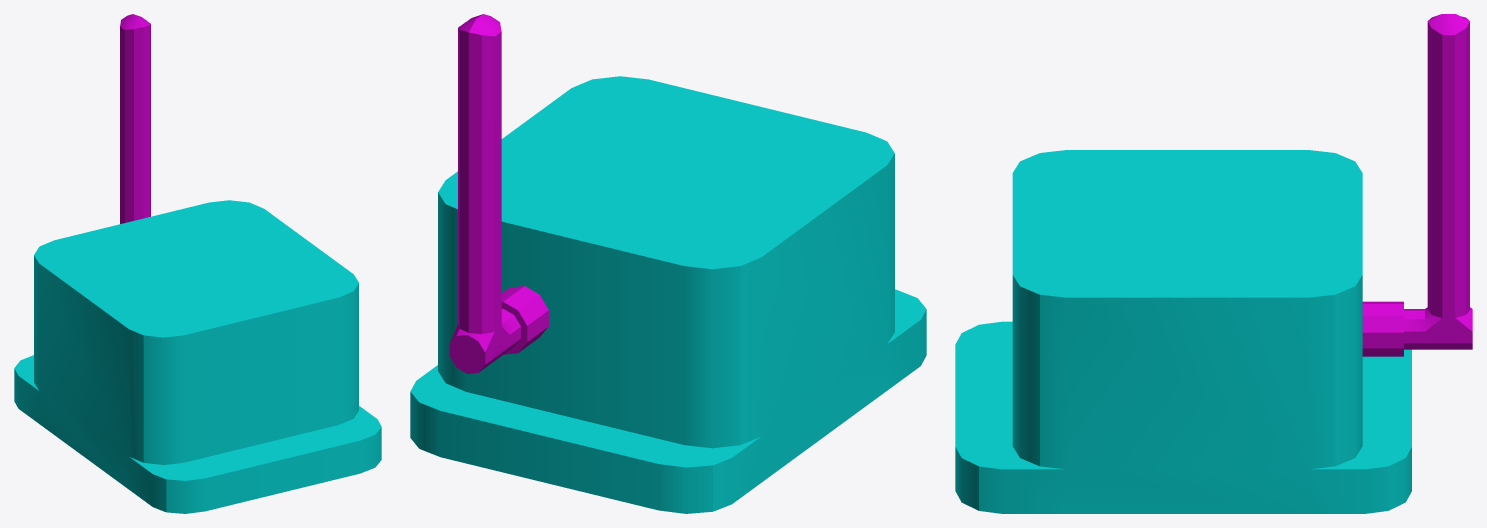
The model's file is Temperature and Humidity Sensor.fbx.
3 renders of one model, left to right at view 1: azimuth 30°, elevation 25°; view 2: azimuth 150°, elevation 25°; view 3: azimuth 270°, elevation 25°, orthographic. The views are drawn at different scales.
Visible parts, largest first — view 1: Cylinder; view 2: Cylinder; view 3: Cylinder.
Boxes of the visible parts, box(x1,y1,x2,y2) form: Cylinder: box(14, 14, 381, 513); Cylinder: box(410, 14, 926, 513); Cylinder: box(955, 14, 1472, 513).
Bounding box in the file's own units: 12.11 × 17.18 × 17.91.
